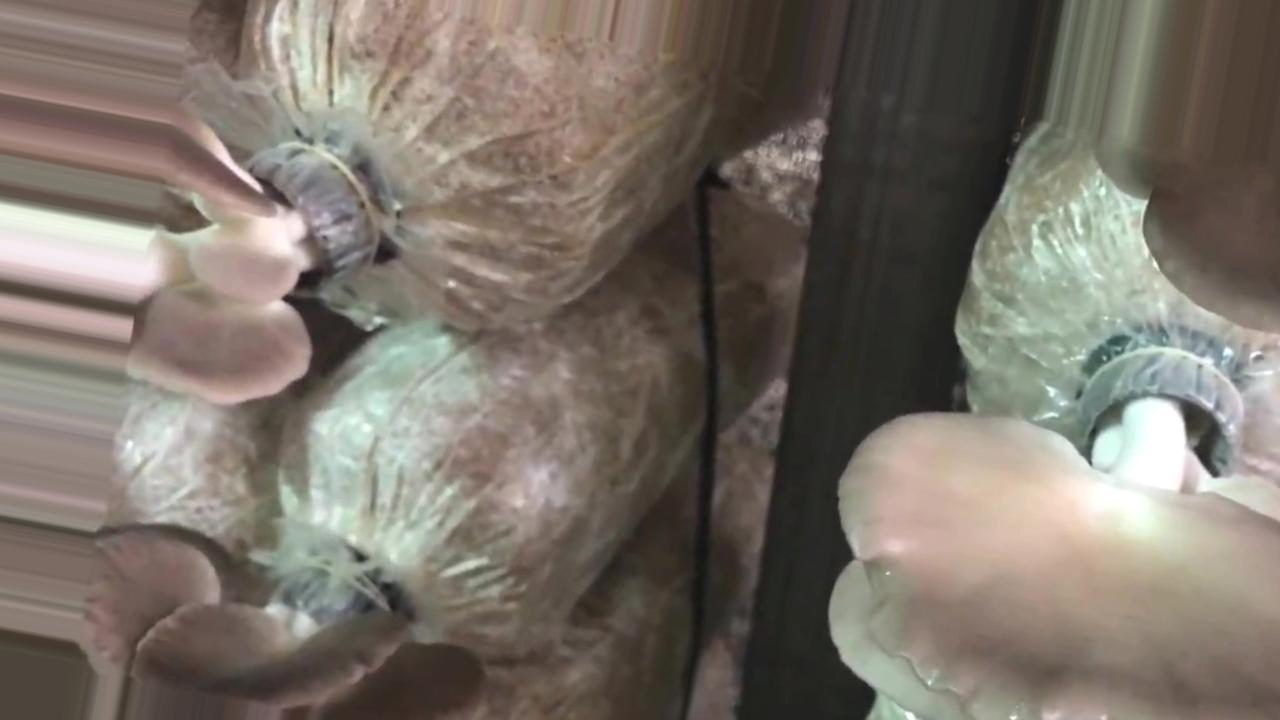nam: (830, 335, 1277, 720), (120, 102, 381, 412), (135, 573, 488, 720), (1096, 149, 1280, 333)
